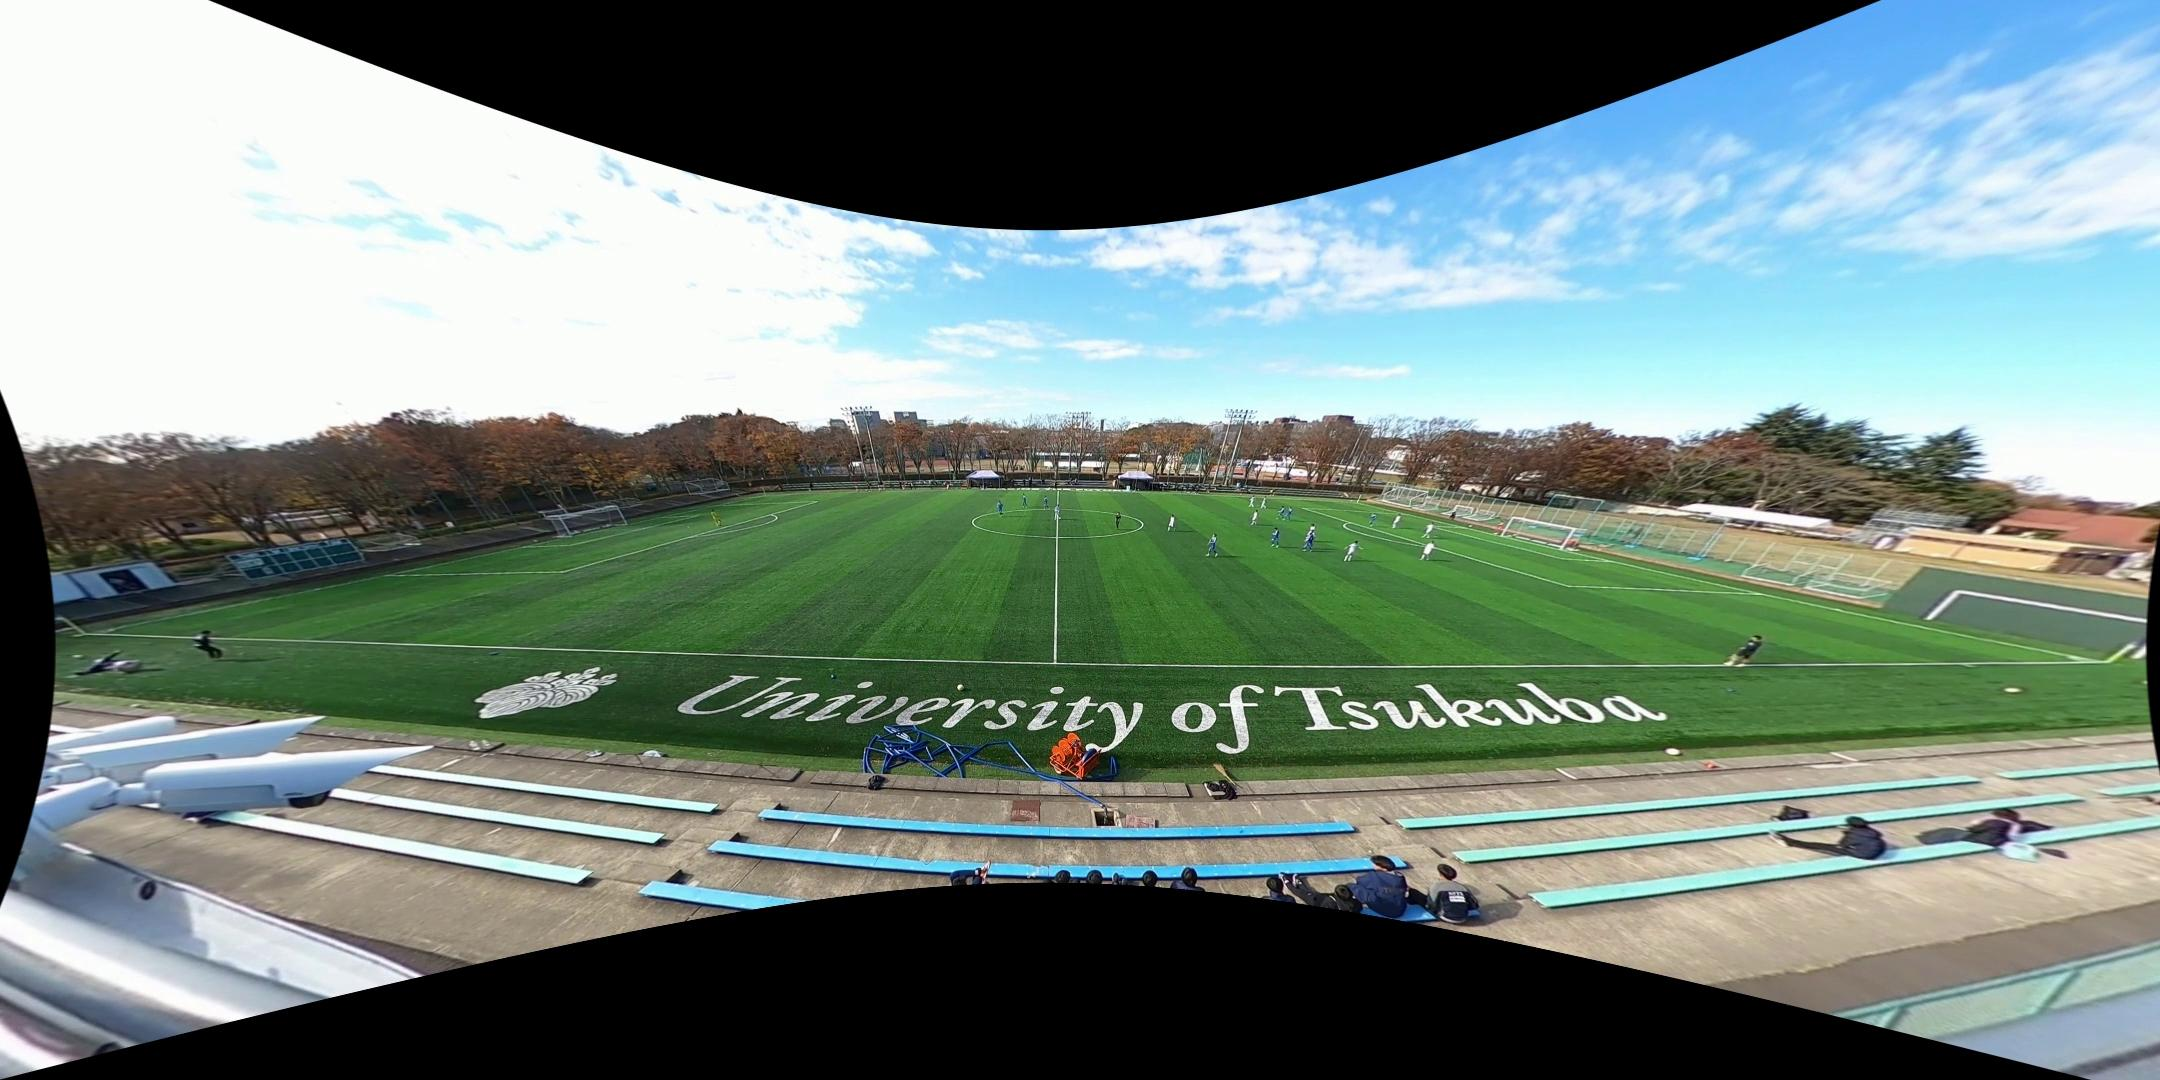person: (1725, 635, 1764, 666), (1342, 540, 1362, 562), (1419, 540, 1437, 560), (1206, 532, 1219, 557), (709, 509, 723, 527), (1270, 528, 1280, 549), (1422, 522, 1434, 539), (1303, 534, 1314, 552), (1305, 523, 1316, 541), (1493, 520, 1504, 535), (1250, 510, 1259, 527), (1114, 511, 1122, 530), (1283, 506, 1293, 521), (1393, 512, 1401, 530), (1168, 514, 1175, 532), (1276, 506, 1285, 520), (1368, 513, 1377, 527), (1054, 504, 1061, 521), (997, 501, 1004, 517), (1260, 497, 1268, 509), (1022, 493, 1028, 508), (1043, 495, 1049, 510), (1249, 495, 1256, 507)
sports ball: (956, 681, 966, 693), (1468, 524, 1472, 528)
